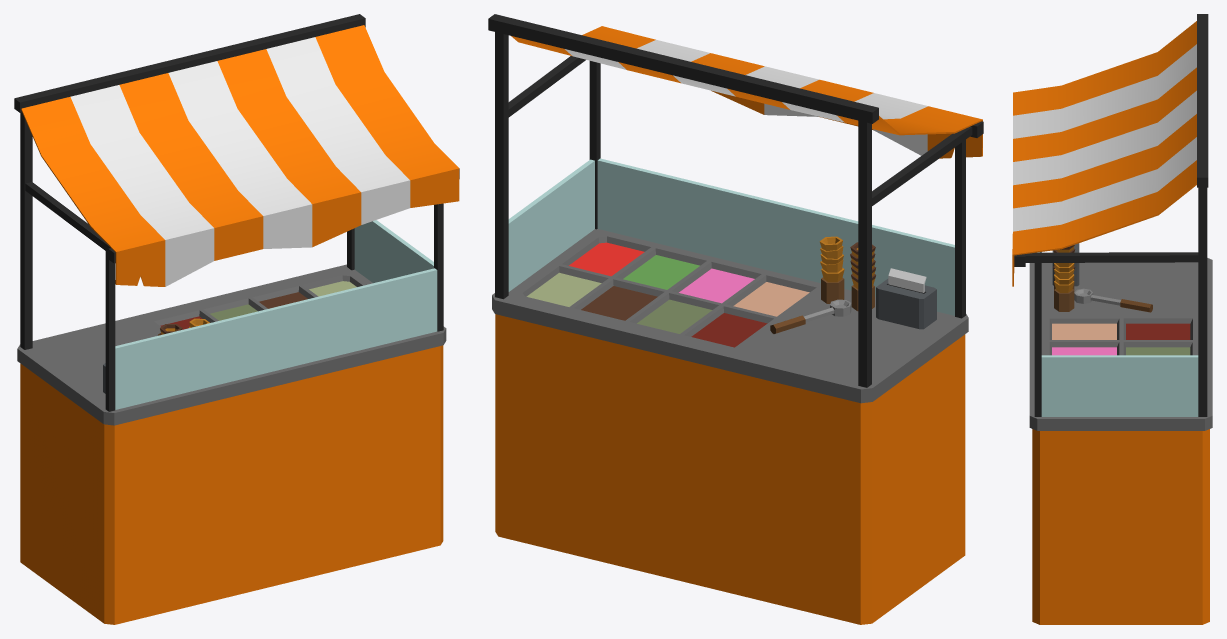
Rendered from SM_Props_Market_02.fbx.
The picture shows the model from 3 angles, left to right: view 1: azimuth 30°, elevation 25°; view 2: azimuth 150°, elevation 25°; view 3: azimuth 270°, elevation 25°; orthographic projection. The views are drawn at different scales.
Visible parts, largest first — view 1: SM_Props_Market_02; view 2: SM_Props_Market_02; view 3: SM_Props_Market_02.
Part boxes in pixels (box(x1,y1,x2,y2)): SM_Props_Market_02: box(14, 14, 459, 624); SM_Props_Market_02: box(488, 14, 983, 624); SM_Props_Market_02: box(1012, 14, 1212, 624).
Bounding box in the file's own units: 1.7 × 2.17 × 0.8772.
